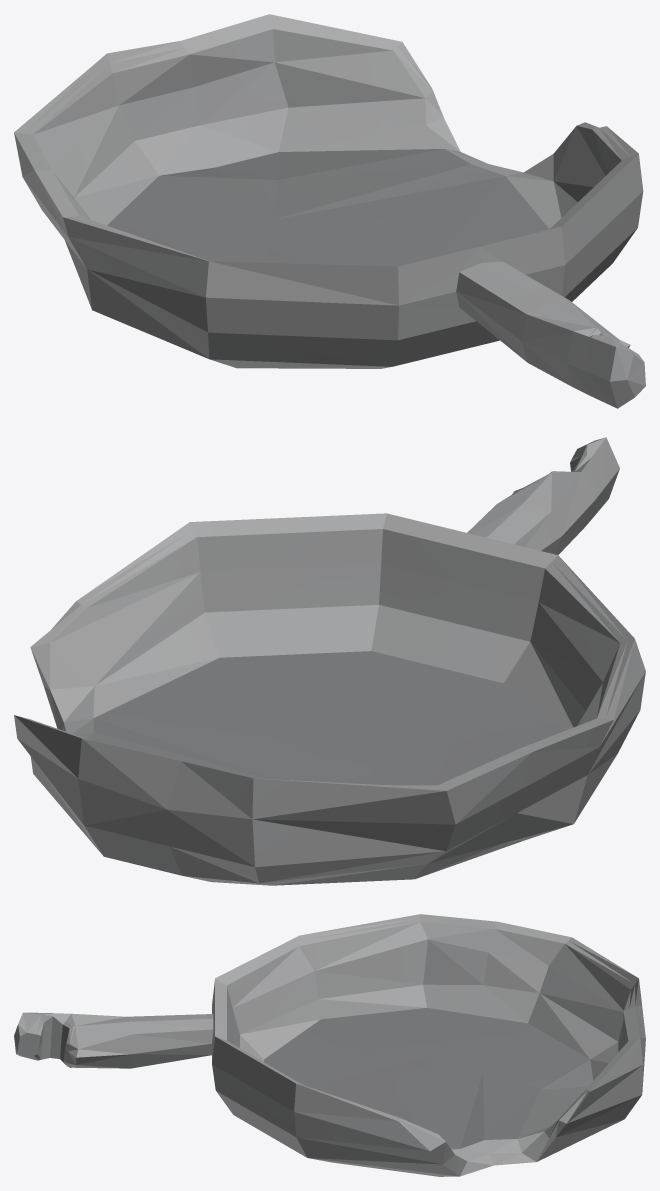
File: pan_broken.obj
3 views of the same model, one above another, from view 1: azimuth 30°, elevation 25°; view 2: azimuth 150°, elevation 25°; view 3: azimuth 270°, elevation 25° (orthographic). The views are drawn at different scales.
Visible parts, largest first — view 1: pan_broken_Material; view 2: pan_broken_Material; view 3: pan_broken_Material.
Part boxes in pixels (<box>): pan_broken_Material: <box>14,14,645,408</box>; pan_broken_Material: <box>14,437,645,885</box>; pan_broken_Material: <box>14,914,645,1176</box>.
Size of the model in its own units: 0.4401 by 0.1151 by 0.606.
